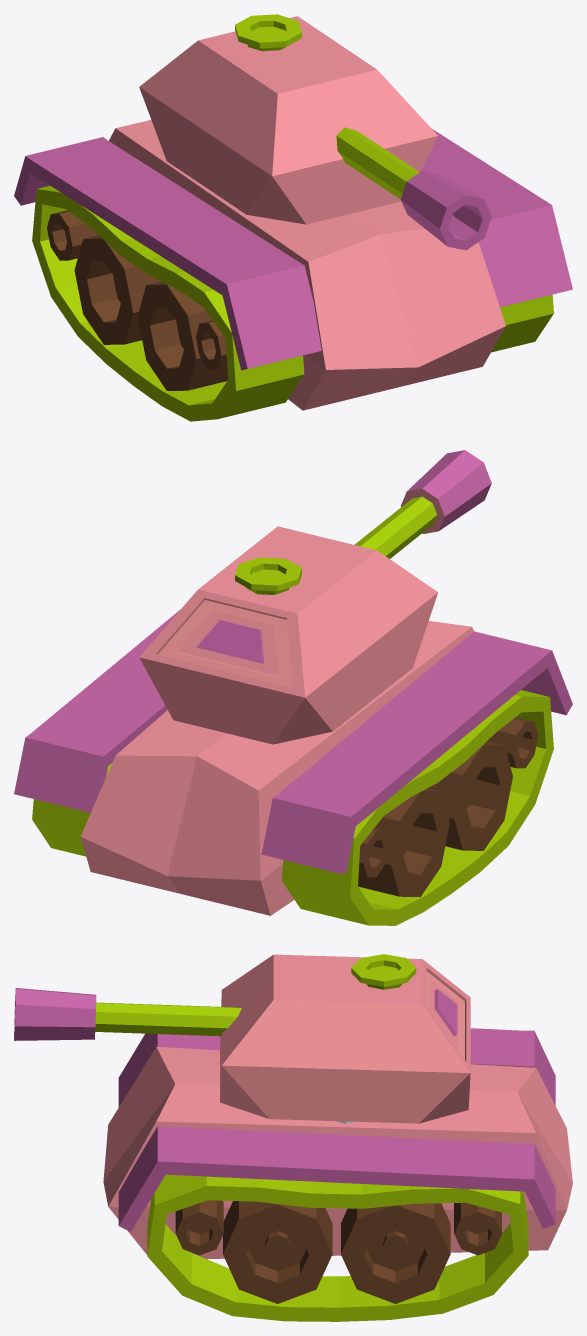
Rendered from tank3-v.1.2.gltf.
3 views of the same model, one above another, from view 1: azimuth 30°, elevation 25°; view 2: azimuth 150°, elevation 25°; view 3: azimuth 270°, elevation 25° (orthographic). The views are drawn at different scales.
Parts seen in each view (by area): view 1: Cube.001, Cube.002, Cube, Cube.003, Cylinder.003, Cylinder.001, Cylinder.002, Cylinder.006, Cylinder.005, Cylinder.004; view 2: Cube.001, Cube.002, Cube, Cube.003, Cylinder.003, Cylinder.002, Cylinder.001, Cylinder.006, Cylinder.004, Cylinder.005; view 3: Cube.001, Cube.002, Cube, Cube.003, Cylinder.001, Cylinder.002, Cylinder.003, Cylinder.004, Cylinder.005, Cylinder.006.
Boxes of the visible parts, x1=… form: Cube.001: x1=139, y1=16, x2=437, y2=224; Cube.002: x1=14, y1=129, x2=572, y2=370; Cube: x1=109, y1=120, x2=505, y2=410; Cube.003: x1=32, y1=185, x2=553, y2=421; Cylinder.003: x1=336, y1=127, x2=491, y2=250; Cylinder.001: x1=137, y1=281, x2=228, y2=390; Cylinder.002: x1=74, y1=235, x2=160, y2=344; Cylinder.006: x1=235, y1=14, x2=301, y2=51; Cylinder.005: x1=47, y1=210, x2=98, y2=260; Cylinder.004: x1=196, y1=320, x2=227, y2=369; Cube.001: x1=139, y1=526, x2=437, y2=744; Cube.002: x1=14, y1=609, x2=572, y2=873; Cube: x1=80, y1=621, x2=473, y2=915; Cube.003: x1=32, y1=690, x2=553, y2=925; Cylinder.003: x1=354, y1=450, x2=491, y2=558; Cylinder.002: x1=358, y1=788, x2=449, y2=897; Cylinder.001: x1=428, y1=741, x2=512, y2=850; Cylinder.006: x1=235, y1=557, x2=301, y2=594; Cylinder.004: x1=487, y1=717, x2=538, y2=768; Cylinder.005: x1=358, y1=828, x2=389, y2=877; Cube.001: x1=220, y1=954, x2=470, y2=1123; Cube.002: x1=118, y1=1028, x2=555, y2=1231; Cube: x1=103, y1=1047, x2=572, y2=1259; Cube.003: x1=147, y1=1174, x2=528, y2=1321; Cylinder.001: x1=223, y1=1201, x2=332, y2=1303; Cylinder.002: x1=341, y1=1203, x2=450, y2=1303; Cylinder.003: x1=14, y1=988, x2=241, y2=1040; Cylinder.004: x1=175, y1=1200, x2=223, y2=1255; Cylinder.005: x1=454, y1=1202, x2=501, y2=1255; Cylinder.006: x1=351, y1=954, x2=416, y2=989.
Size of the model in its own units: 3.23 by 2.86 by 5.15.
